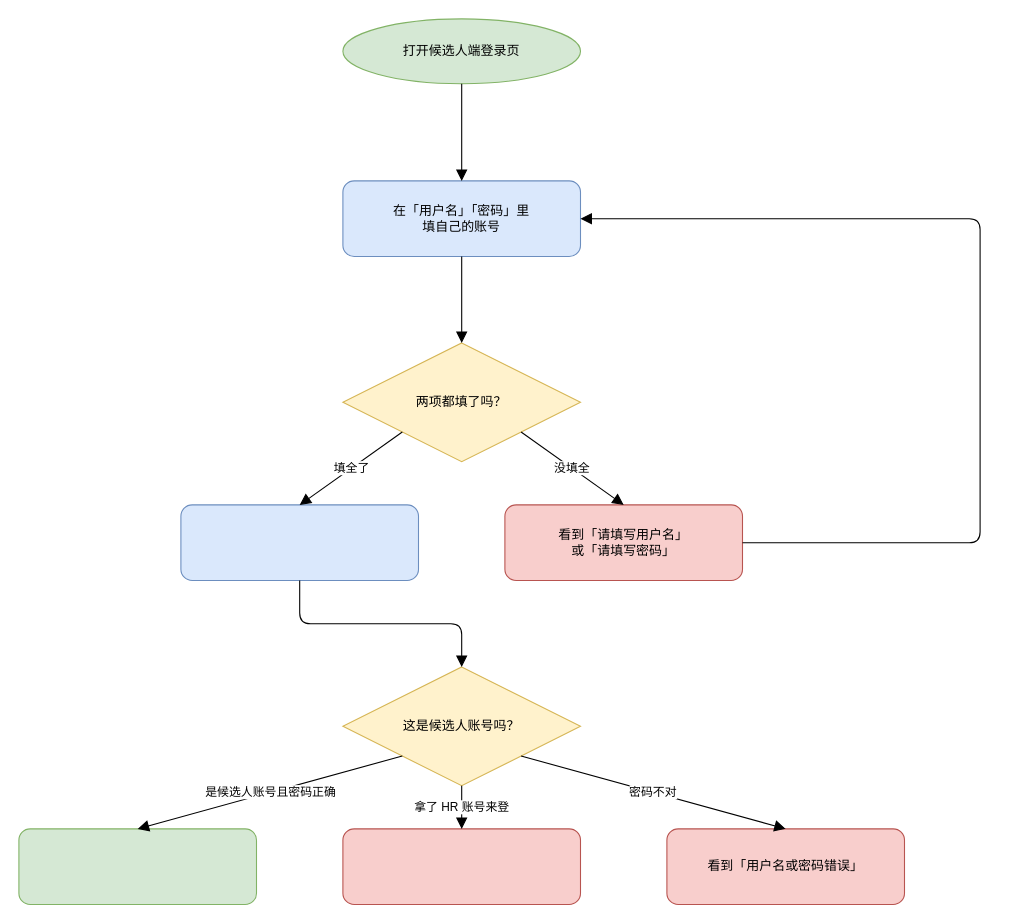
This 1010x923 diagram has some shape labels left out. The centre of each missing label's shape, as x and y in pixels:
"点「登录」" belongs at point 299,542.
"看到「这是候选人端， HR 账号请从 HR 工作台登录。」" belongs at point 461,866.
"进入「我的面试」页" belongs at point 137,866.
